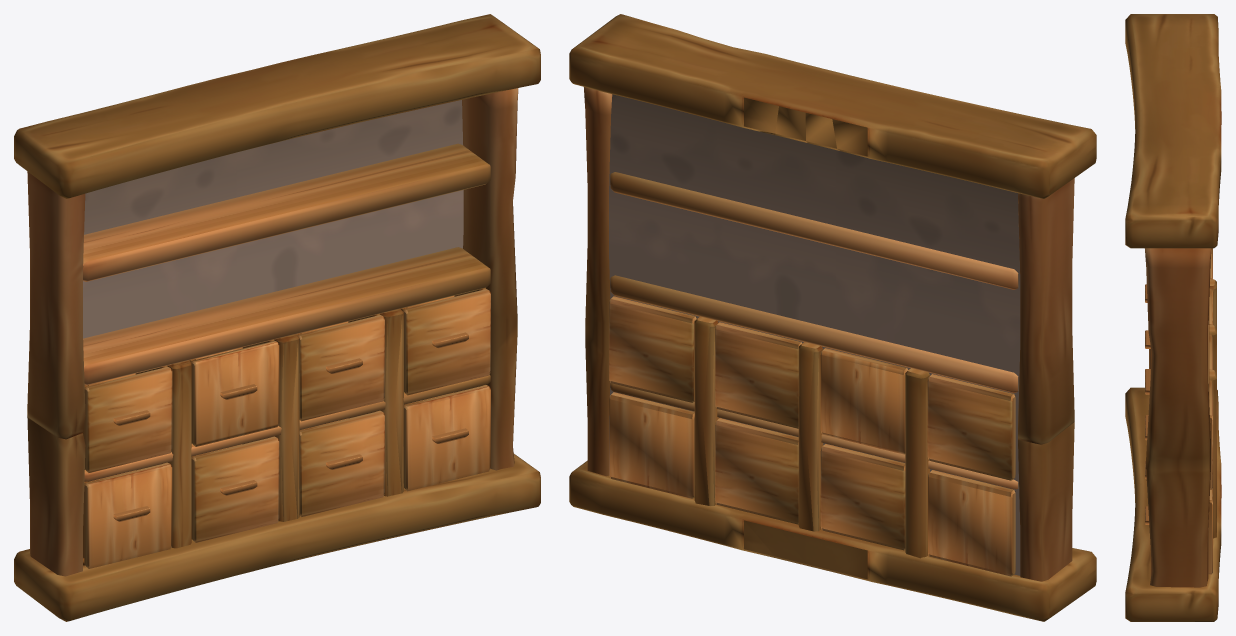
The model's file is Wall_LongA_02.fbx.
3 views of the same model, side by side, from view 1: azimuth 30°, elevation 25°; view 2: azimuth 150°, elevation 25°; view 3: azimuth 270°, elevation 25° (orthographic). The views are drawn at different scales.
Visible parts, largest first — view 1: Wall_LongA_02; view 2: Wall_LongA_02; view 3: Wall_LongA_02.
Boxes of the visible parts, x1,y1,x2,y2 form: Wall_LongA_02: (14,14,540,621); Wall_LongA_02: (569,14,1096,621); Wall_LongA_02: (1125,14,1221,621).
Bounding box in the file's own units: 4620 × 4214 × 908.
Materials: 2 (2 with a texture image).
